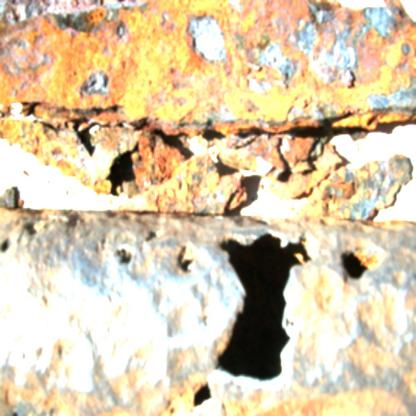burst: (196, 216, 311, 390)
